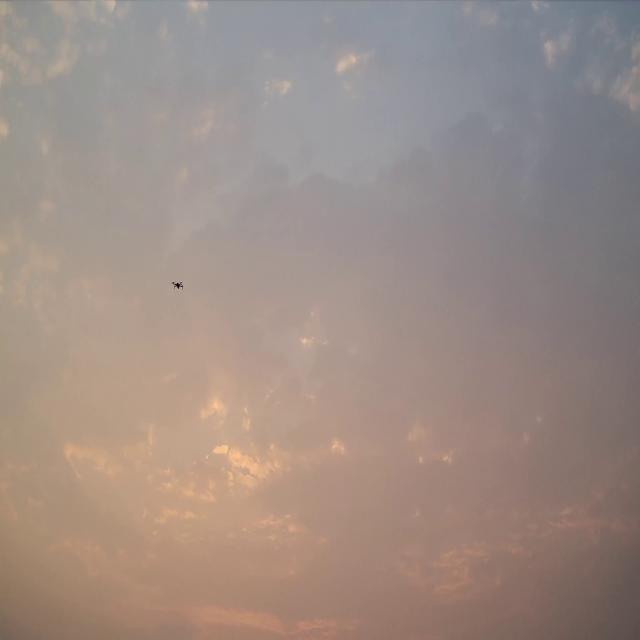drone: (171, 280, 184, 290)
